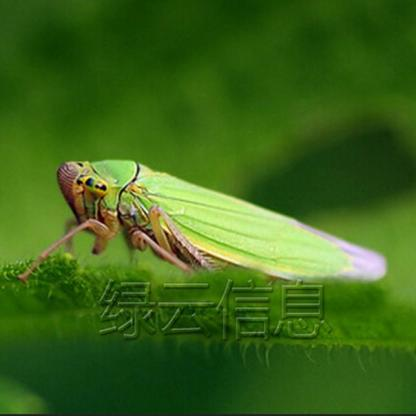Green-Leafhopper: (21, 152, 386, 294)
